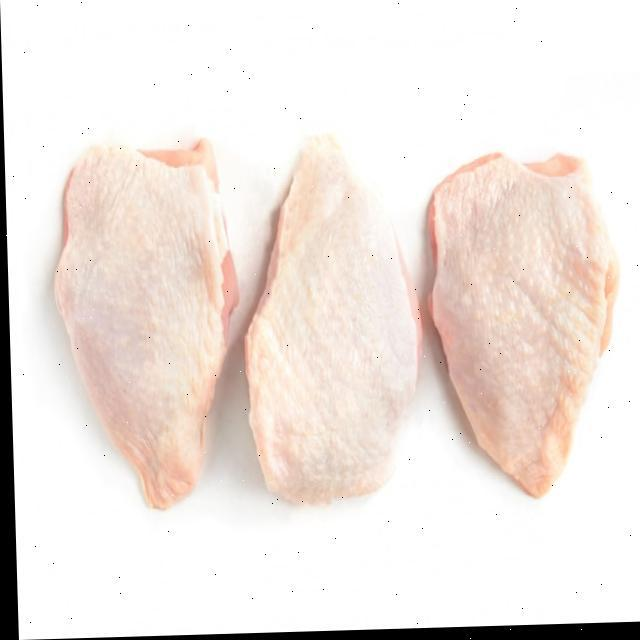thigh: (43, 119, 245, 528), (422, 121, 596, 544), (243, 113, 414, 538)
